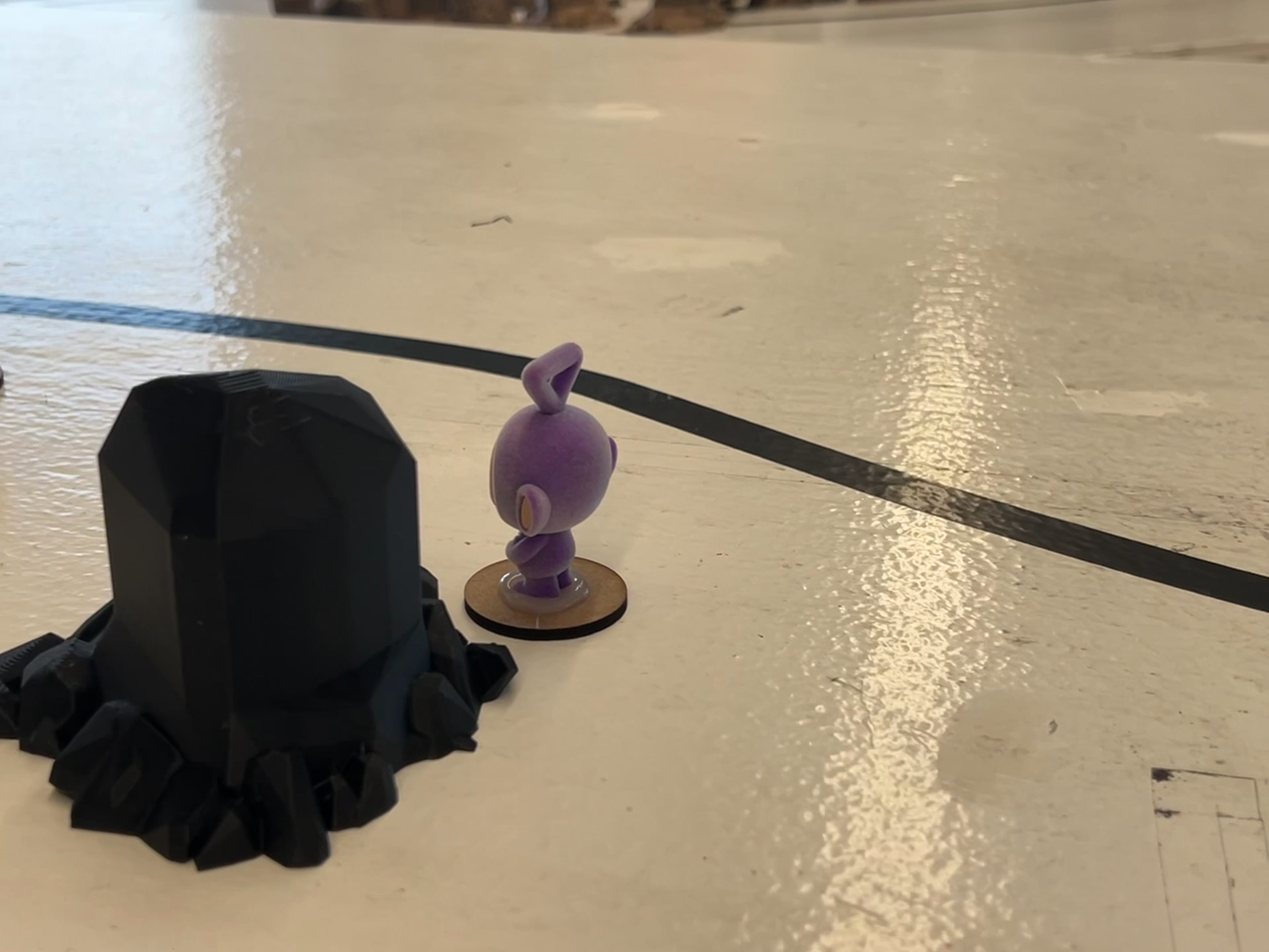teletubby: (489, 343, 617, 599)
